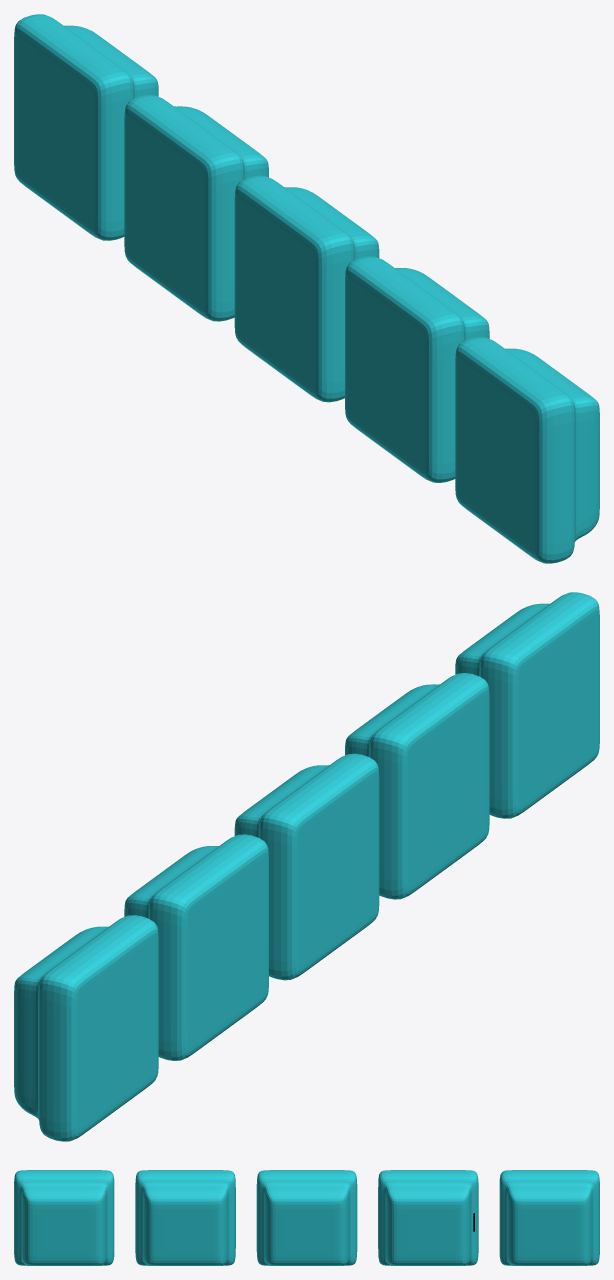
The picture shows the model from 3 angles, top to bottom: view 1: azimuth 30°, elevation 25°; view 2: azimuth 150°, elevation 25°; view 3: azimuth 270°, elevation 25°; orthographic projection. The views are drawn at different scales.
Visible parts, largest first — view 1: Cube.1417; view 2: Cube.1417; view 3: Cube.1417.
Part boxes in pixels (left/top/right/bottom): Cube.1417: left=14, top=14, right=599, bottom=563; Cube.1417: left=14, top=592, right=599, bottom=1141; Cube.1417: left=14, top=1170, right=599, bottom=1265.
Bounding box in the file's own units: 0.0467 × 0.1004 × 0.5857.
1 material, 1 textured.
